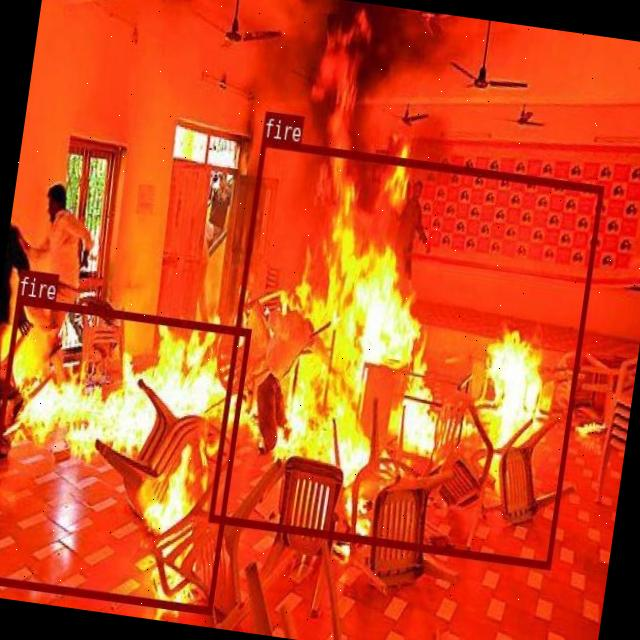fire: (208, 136, 604, 568), (0, 294, 251, 613)
